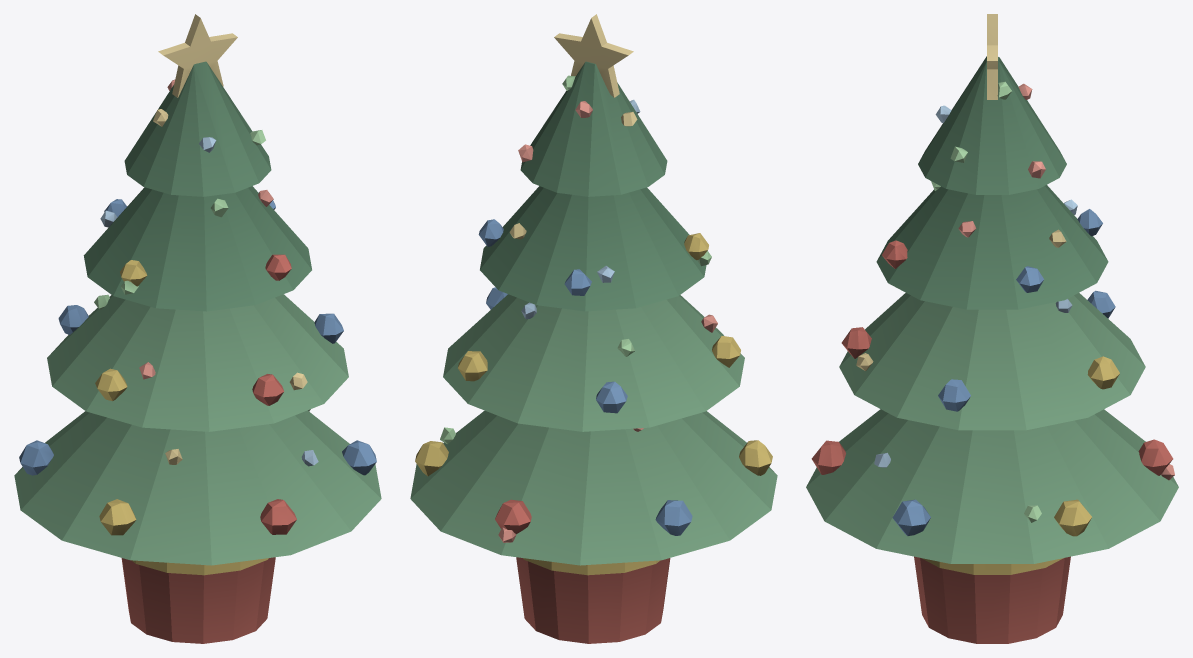
File: xmas_tree_small_low.glb
The picture shows the model from 3 angles, left to right: view 1: azimuth 30°, elevation 25°; view 2: azimuth 150°, elevation 25°; view 3: azimuth 270°, elevation 25°; orthographic projection.
Size of the model in its own units: 0.8774 by 1.6 by 0.9.
